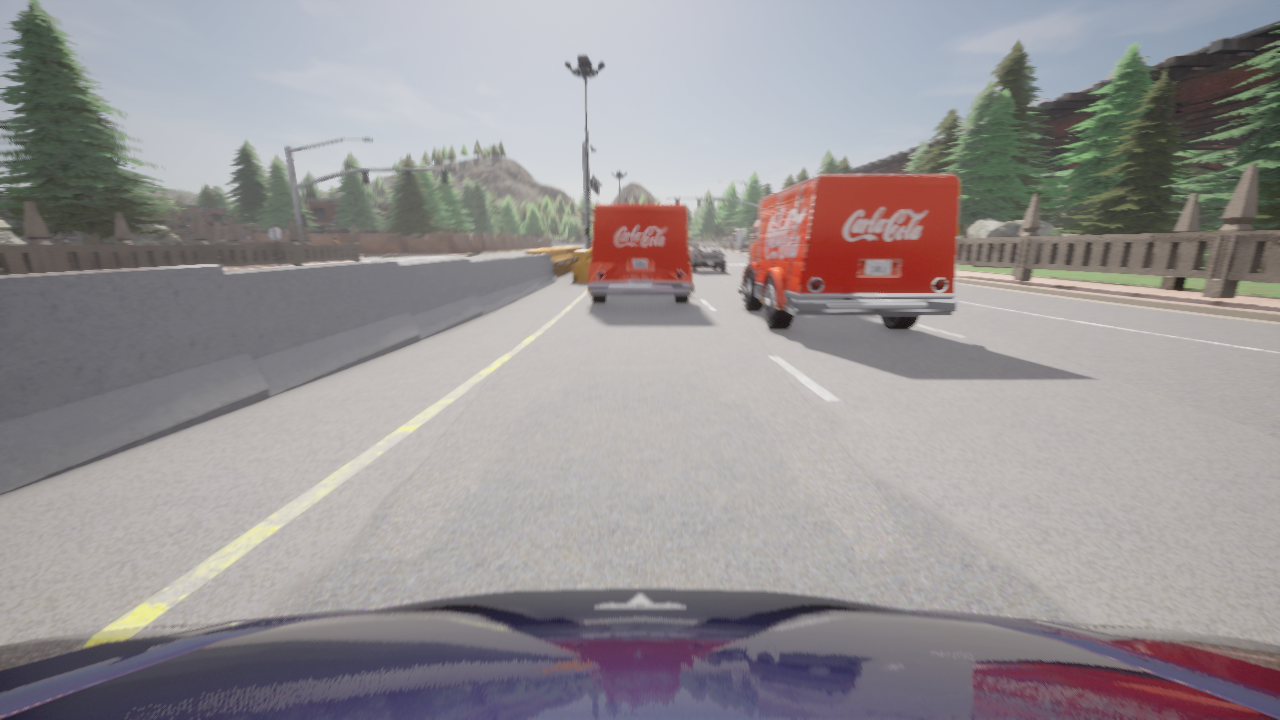cyclist: (0, 588, 1279, 719), (734, 174, 959, 330), (588, 204, 693, 304), (688, 244, 725, 272)
pedestrian: (333, 237, 338, 244)
